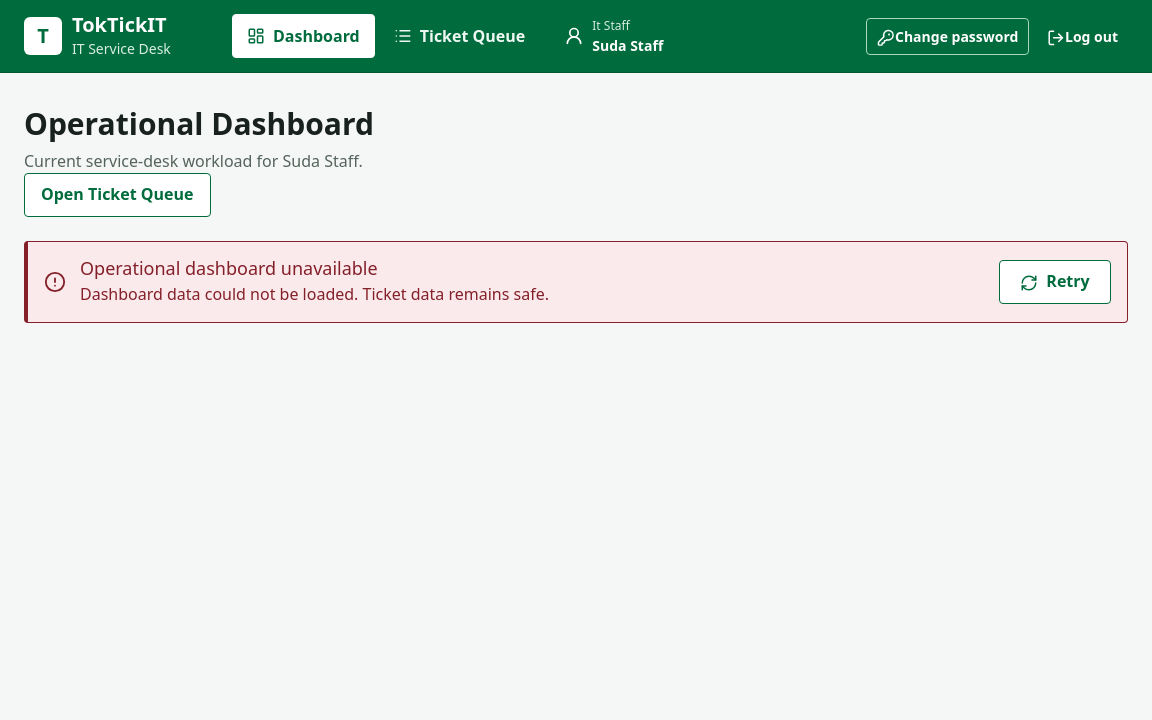
Test: Issue 60 Operational Dashboard › renders empty lists and retries a safe failure
Expected: the message shows "Operational dashboard unavailable", [80,256,378,280]
Step 1. Click the button "Retry" → (1055, 282), box [999,260,1111,304]
(page scrolled)
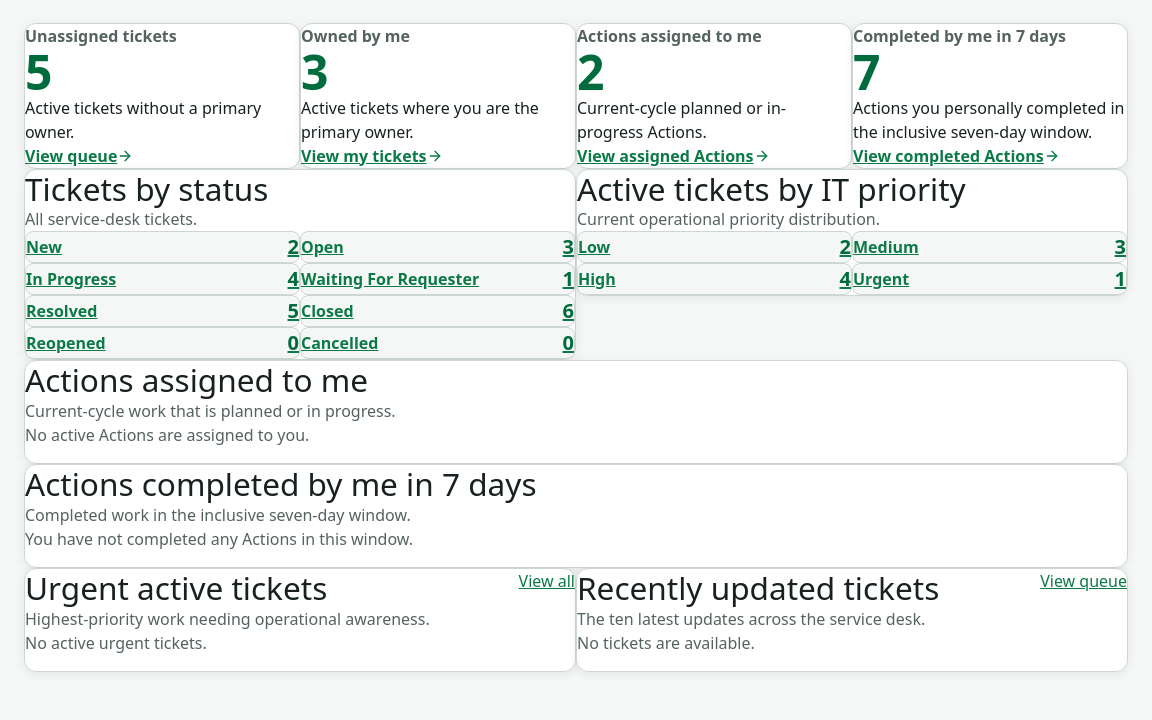
Now the text "No active Actions are assigned to you." is shown, box [25,424,309,446]
Now the text "You have not completed any Actions in this window." is shown, box [25,528,413,550]
Now the text "No active urgent tickets." is shown, box [25,632,207,654]
